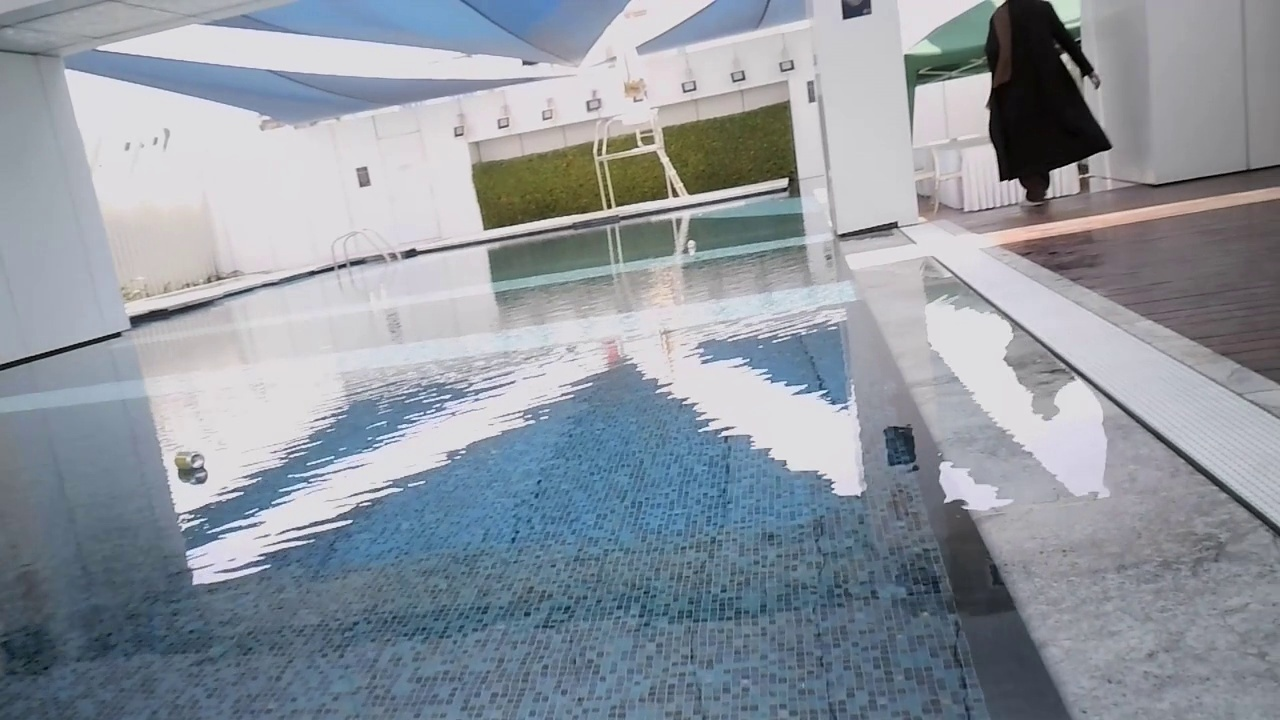debris: (168, 449, 207, 474), (686, 239, 696, 250)
